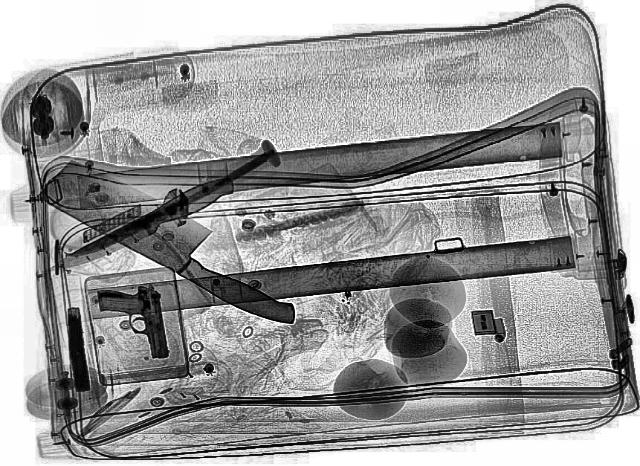Gun: (94, 282, 168, 360), (62, 306, 92, 392)
Knife: (26, 154, 330, 332), (68, 149, 276, 259), (36, 174, 242, 278)
